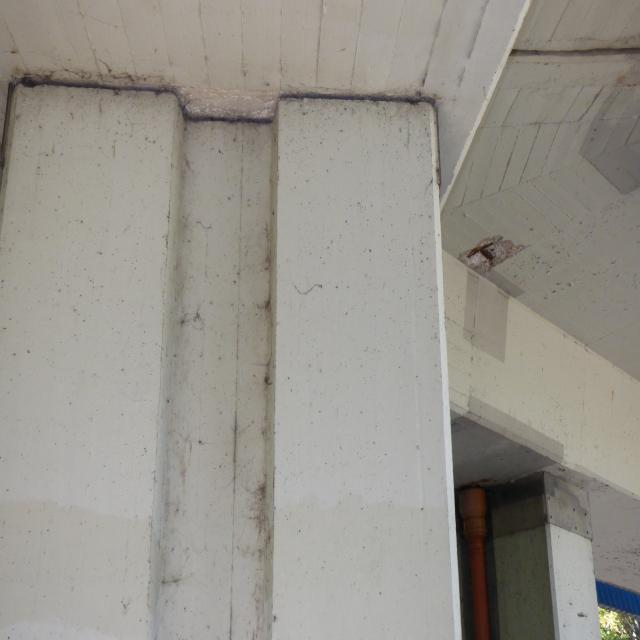corrosion: (466, 240, 496, 268)
